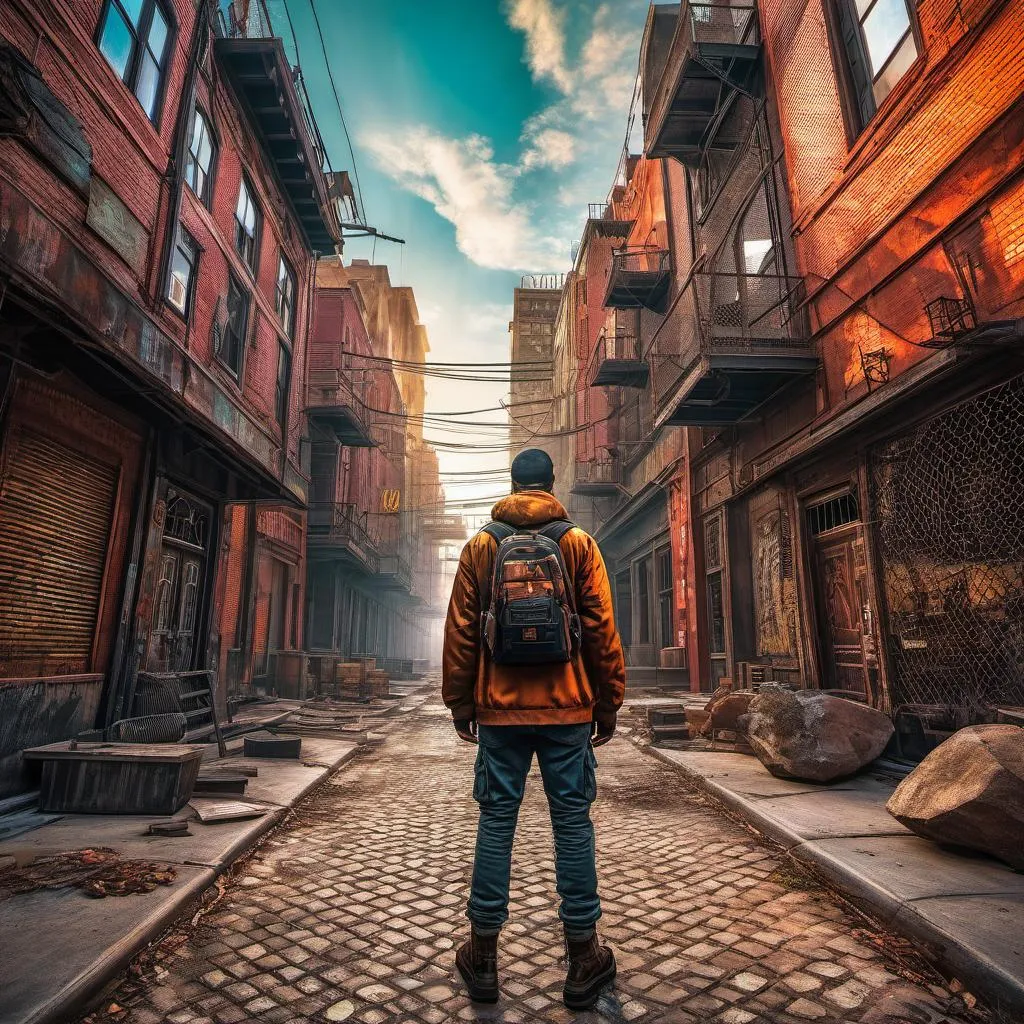person: (442, 447, 637, 1010)
